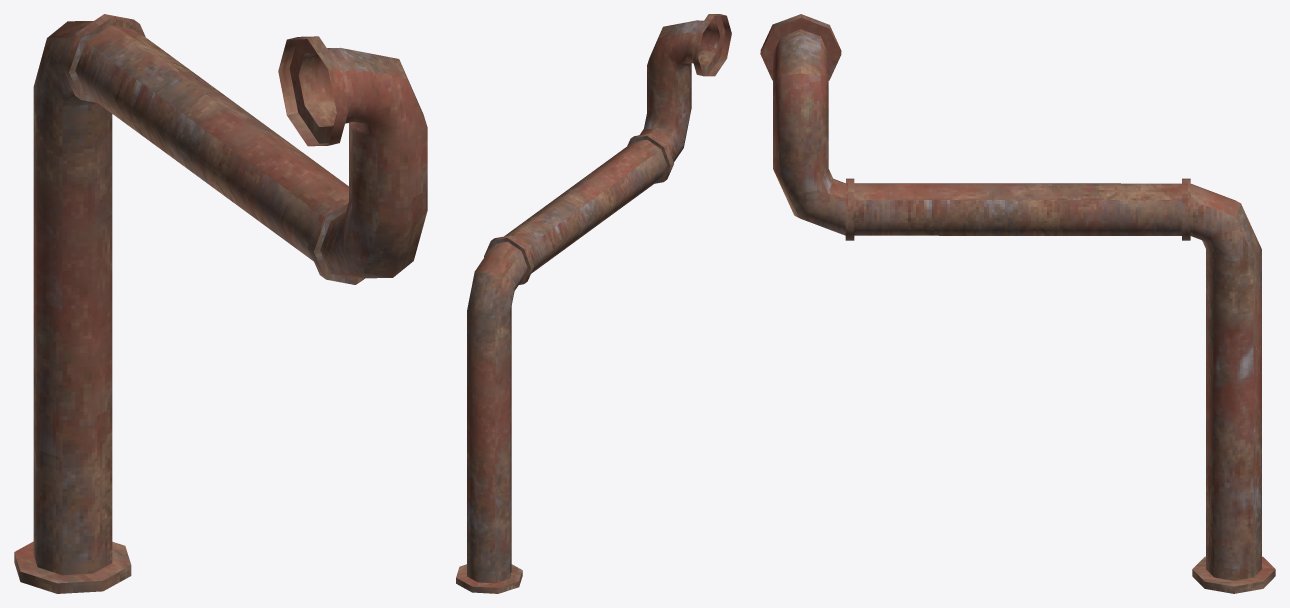
Rendered from _Pipe_1.FBX.
The picture shows the model from 3 angles, left to right: view 1: azimuth 30°, elevation 25°; view 2: azimuth 150°, elevation 25°; view 3: azimuth 270°, elevation 25°; orthographic projection. The views are drawn at different scales.
Parts seen in each view (by area): view 1: _Pipe_1; view 2: _Pipe_1; view 3: _Pipe_1.
Part boxes in pixels (left/top/right/bottom): _Pipe_1: left=14, top=14, right=427, bottom=593; _Pipe_1: left=456, top=14, right=731, bottom=593; _Pipe_1: left=760, top=14, right=1275, bottom=593.
Size of the model in its own units: 42.04 by 235 by 205.
1 material, 1 textured.
